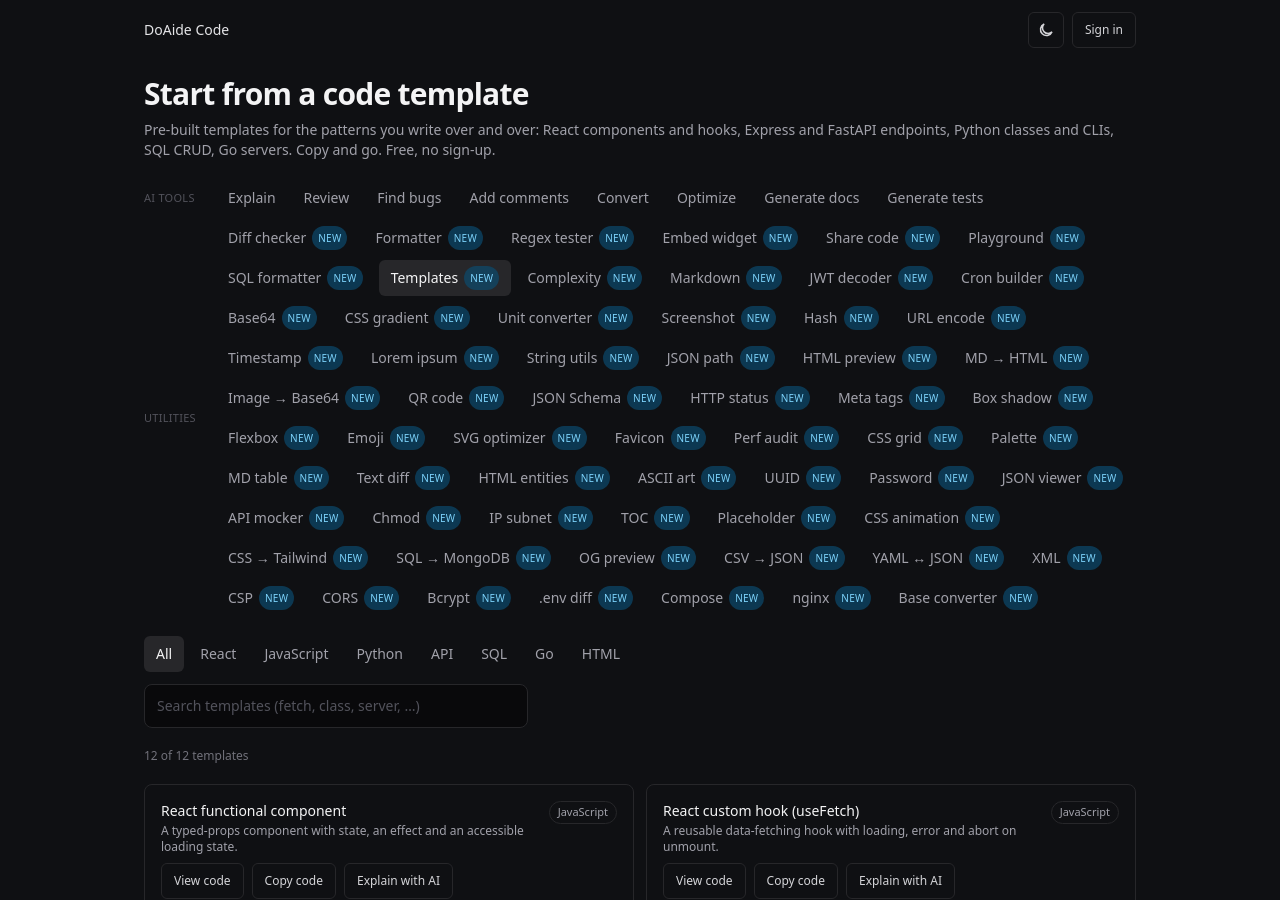
Test: TemplatesPage › filters by category and search
Click the button with test id "tpl-cat-Python".
click(380, 654)  # box [344, 636, 415, 672]
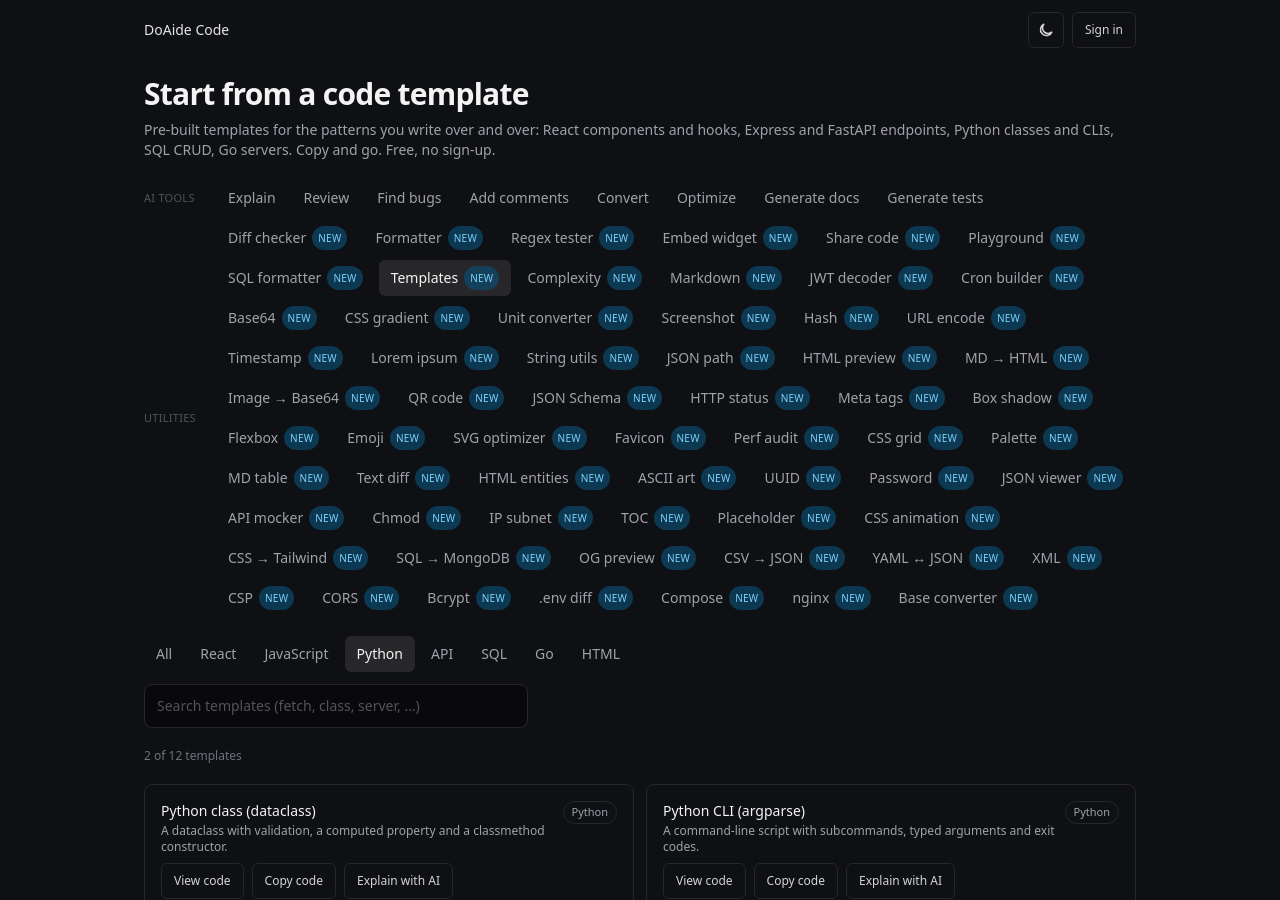
Result: the heading "React functional component" is gone
Result: the heading "Python CLI (argparse)" is shown at [663, 801, 805, 820]
Type "dataclass" into the search field with test id "tpl-search".
click(336, 706); type("dataclass")  # box [144, 684, 528, 728]
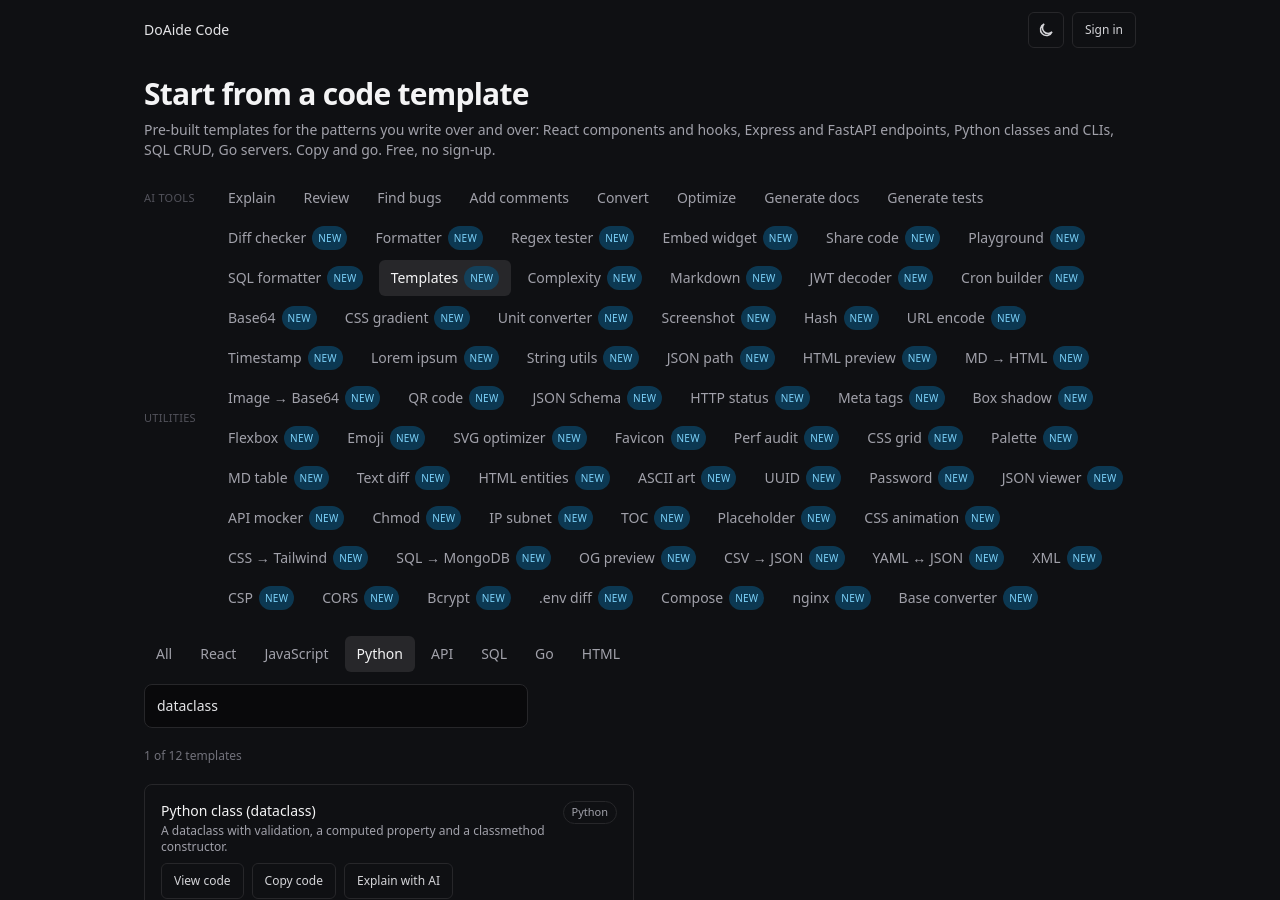
Result: the heading "Python class (dataclass)" is shown at [161, 801, 316, 820]
Result: the heading "Python CLI (argparse)" is gone
